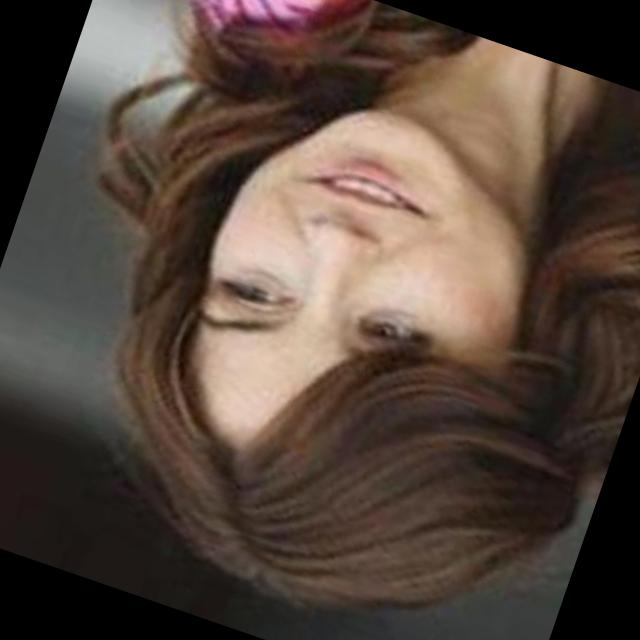bareface: (102, 62, 583, 618)
